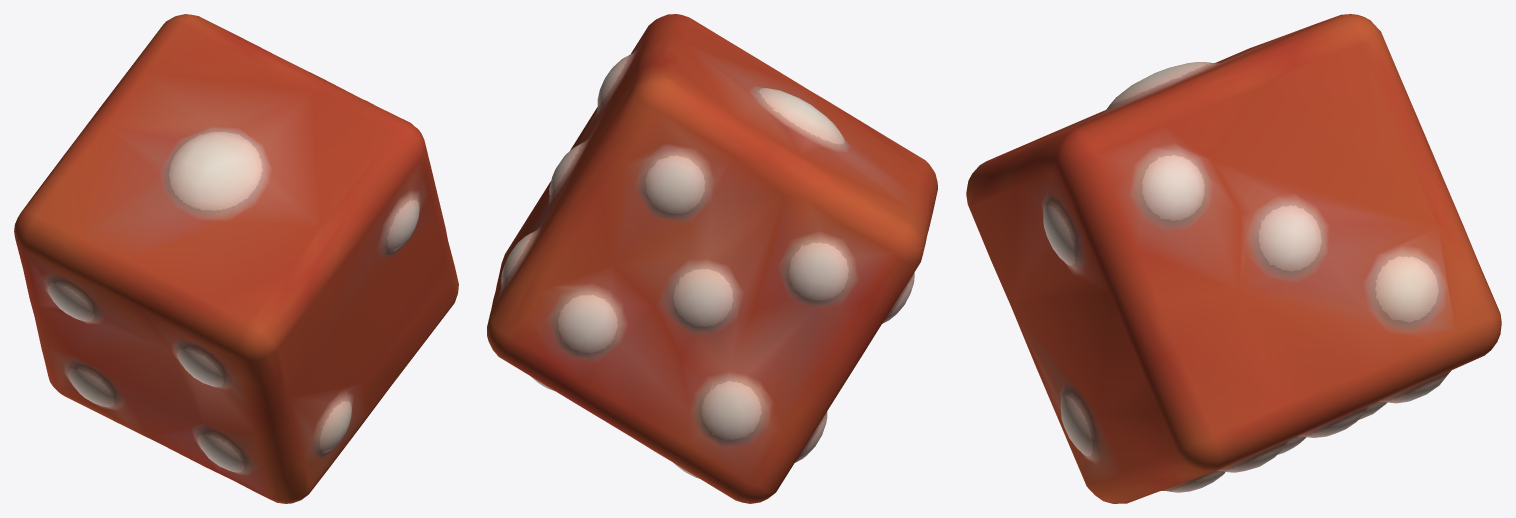
The model's file is die-amanita-tumbled.glb.
3 views of the same model, side by side, from view 1: azimuth 30°, elevation 25°; view 2: azimuth 150°, elevation 25°; view 3: azimuth 270°, elevation 25° (orthographic). The views are drawn at different scales.
Visible parts, largest first — view 1: body; view 2: body; view 3: body.
Boxes of the visible parts, <box> form: body: <box>14,14,458,503</box>; body: <box>487,14,937,503</box>; body: <box>966,14,1501,503</box>.
Bounding box in the file's own units: 3.32 × 3.17 × 3.18.
